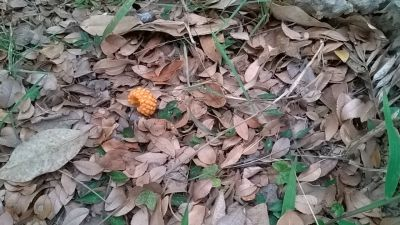eggs: (128, 86, 159, 115)
